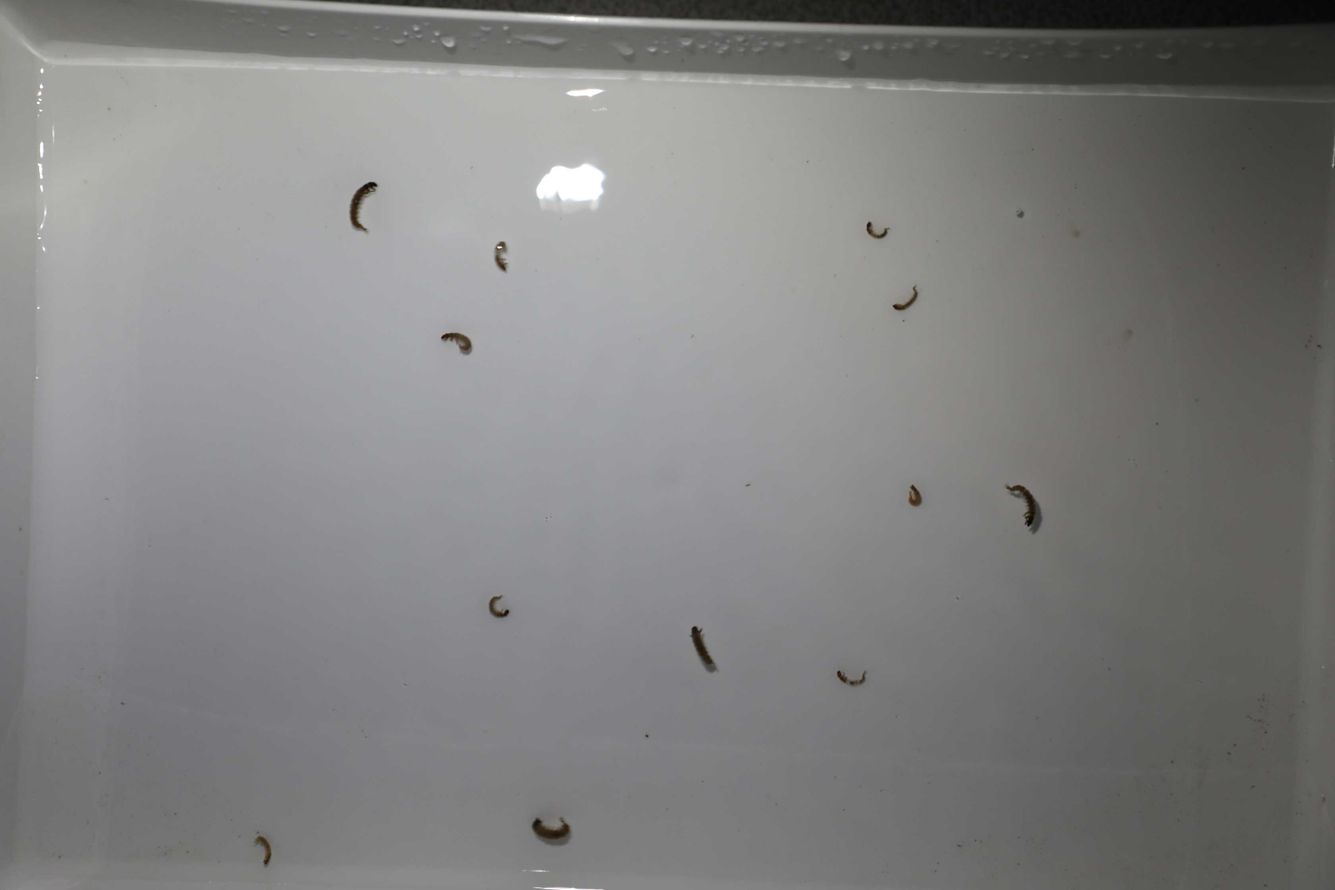Cadisfly: (1002, 482, 1042, 533), (347, 180, 381, 234), (685, 627, 718, 677), (530, 817, 571, 847), (888, 282, 921, 317), (862, 216, 893, 244), (490, 241, 514, 276), (832, 669, 872, 690), (251, 834, 274, 865), (436, 332, 471, 352), (484, 594, 512, 619), (902, 482, 923, 512)
